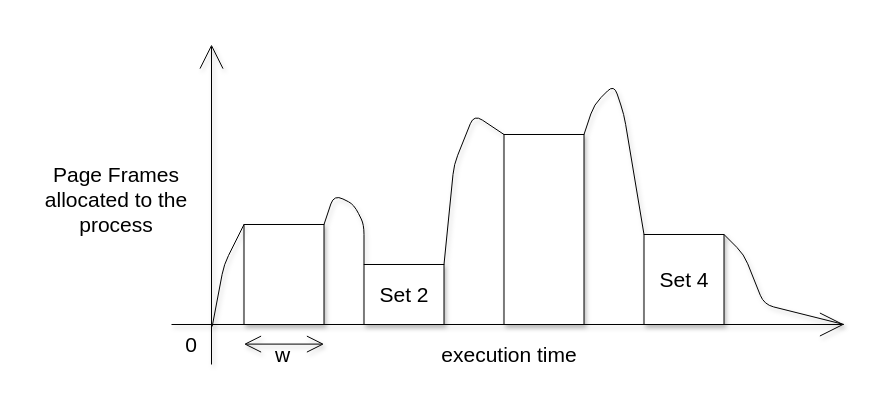
Image size: 891x413. Some labels were removed from this diagram. The shapes that lost their labels are listed below. From the top down, each one's centre as x and y in pixels, then its label:
At point (544, 231): "Set 3".
At point (284, 276): "Set 1".
